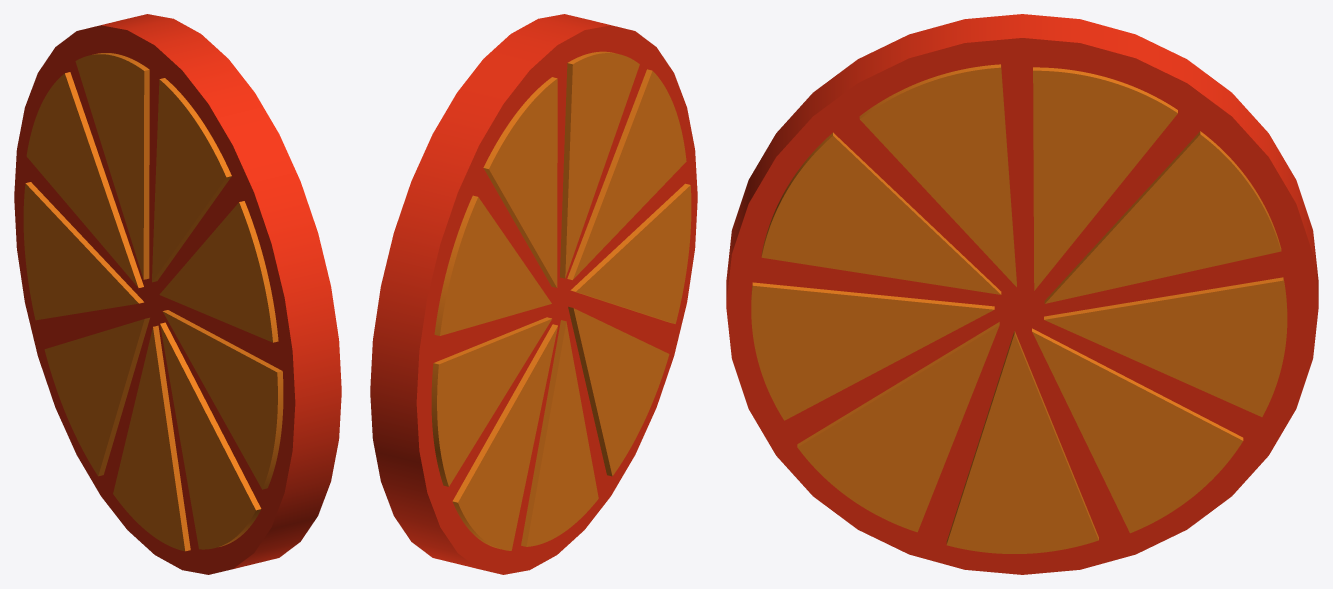
The model's file is Orange.FBX.
3 views of the same model, side by side, from view 1: azimuth 30°, elevation 25°; view 2: azimuth 150°, elevation 25°; view 3: azimuth 270°, elevation 25° (orthographic). The views are drawn at different scales.
Parts seen in each view (by area): view 1: Cylinder071, Cylinder067, Cylinder062, Cylinder063, Cylinder066, Cylinder070, Cylinder068, Cylinder065, Cylinder069, Cylinder064; view 2: Cylinder071, Cylinder068, Cylinder064, Cylinder063, Cylinder069, Cylinder067, Cylinder065, Cylinder062, Cylinder066, Cylinder070; view 3: Cylinder071, Cylinder065, Cylinder070, Cylinder069, Cylinder066, Cylinder064, Cylinder062, Cylinder068, Cylinder063, Cylinder067.
Boxes of the visible parts, x1,y1,x2,y2 form: Cylinder071: (14,14,341,574); Cylinder067: (75,53,149,279); Cylinder062: (160,322,261,549); Cylinder063: (113,325,190,551); Cylinder066: (26,72,143,287); Cylinder070: (162,310,283,489); Cylinder068: (152,78,231,282); Cylinder065: (23,182,143,320); Cylinder069: (159,201,278,342); Cylinder064: (44,317,149,476); Cylinder071: (370,14,697,574); Cylinder068: (560,51,639,278); Cylinder064: (452,324,557,550); Cylinder063: (521,320,598,546); Cylinder069: (567,69,686,279); Cylinder067: (483,77,557,287); Cylinder065: (431,317,551,486); Cylinder062: (568,306,669,476); Cylinder066: (434,195,551,335); Cylinder070: (570,183,691,323); Cylinder071: (726,14,1318,574); Cylinder065: (1044,277,1287,416); Cylinder070: (751,282,994,420); Cylinder069: (761,132,1001,294); Cylinder066: (1044,131,1281,303); Cylinder064: (1032,328,1243,533); Cylinder062: (797,322,999,532); Cylinder068: (859,64,1016,286); Cylinder063: (946,331,1098,553); Cylinder067: (1033,67,1177,290).
Bounding box in the file's own units: 6.1 × 50.89 × 50.89.
